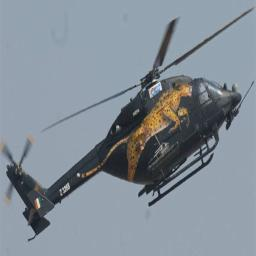helicopter: (3, 35, 252, 251)
